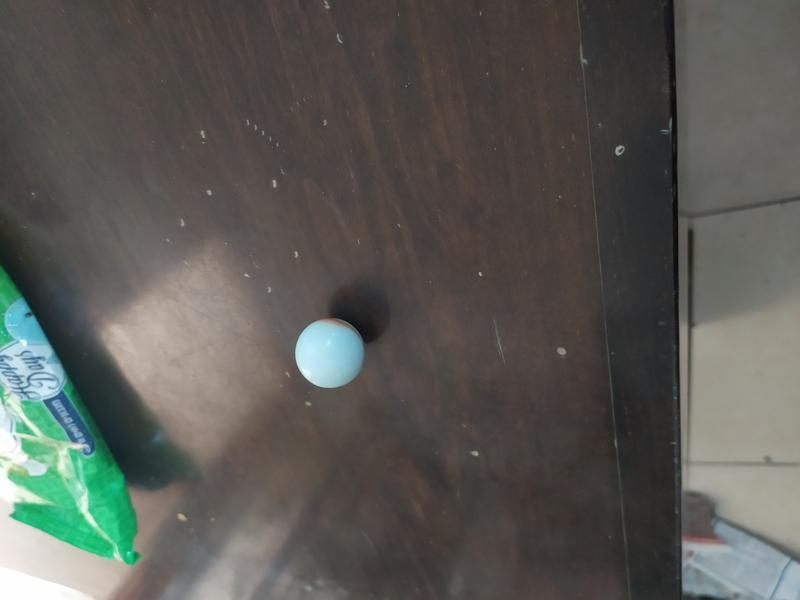Warning: (292, 315, 369, 391)
